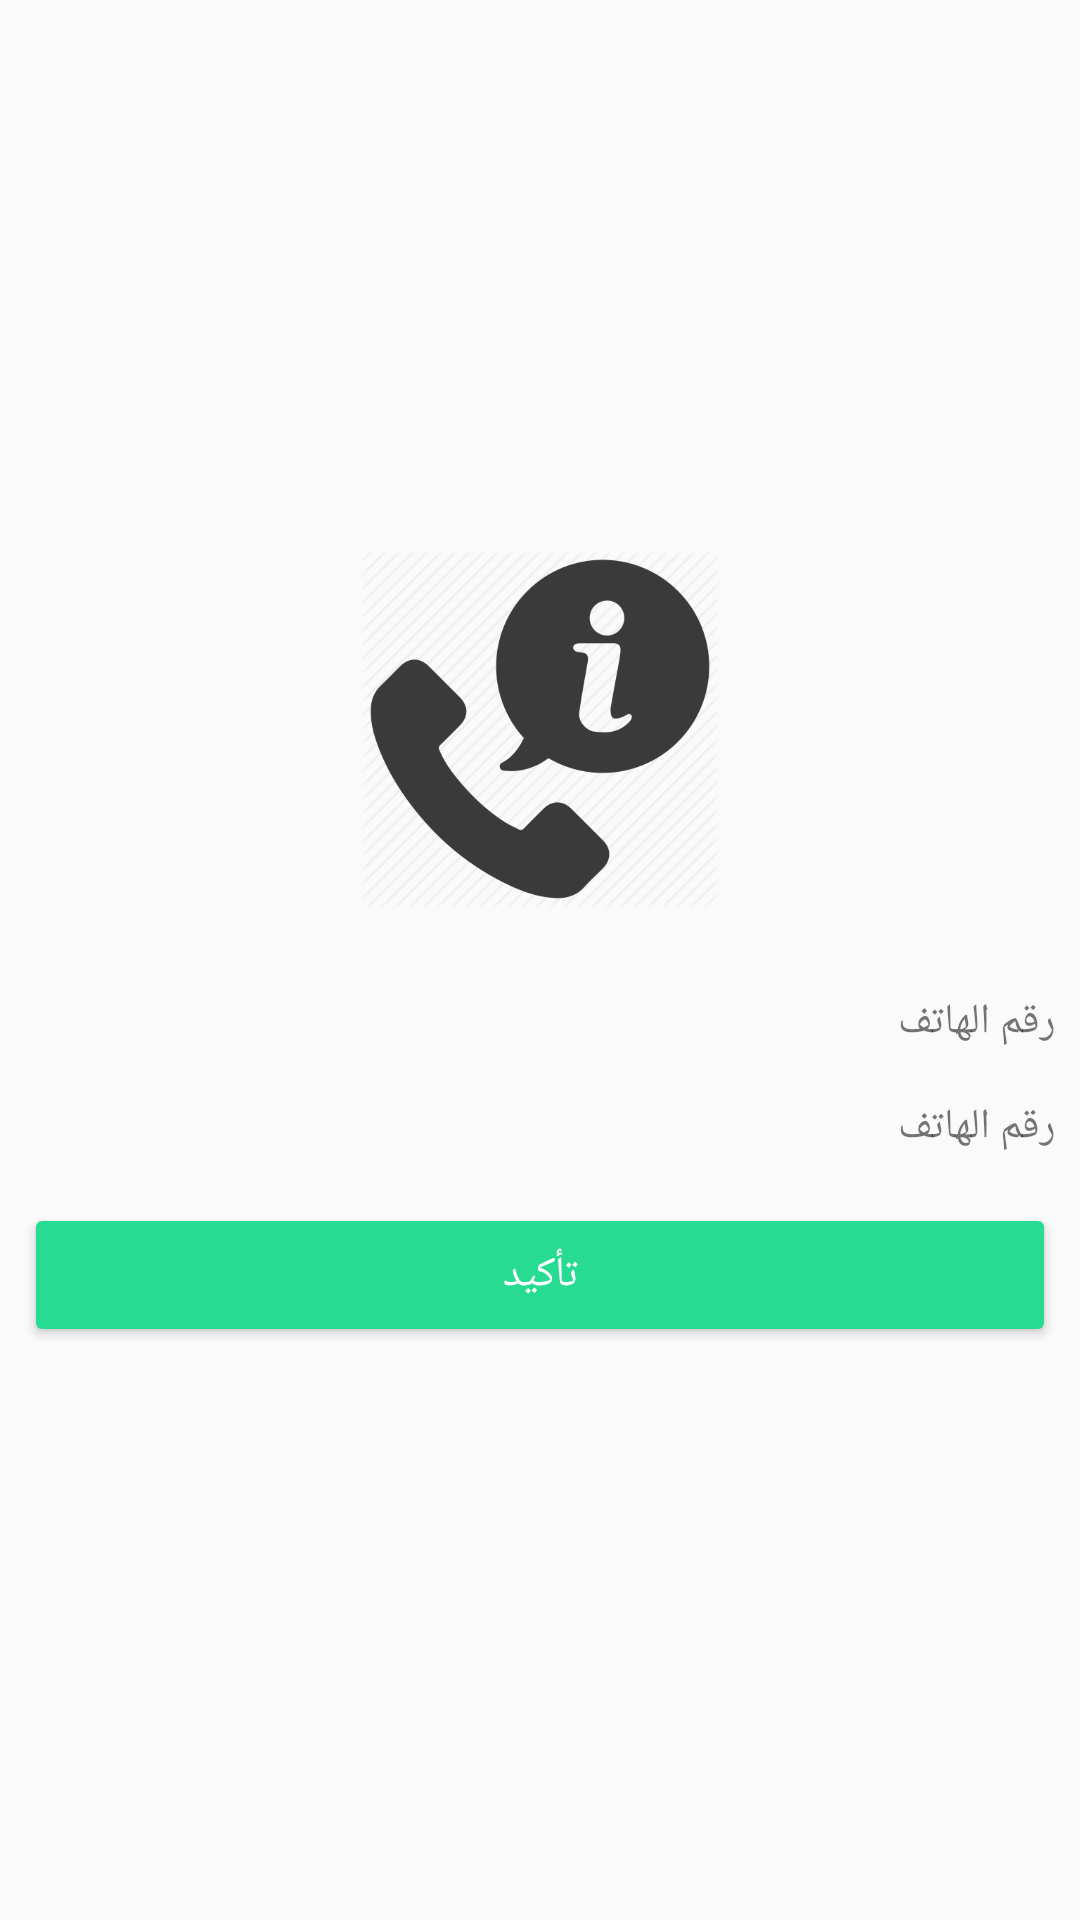

Icons on this 1080x1920 Android screen, each with the point to tap as (x=x, y=y):
info: (x=540, y=729)
